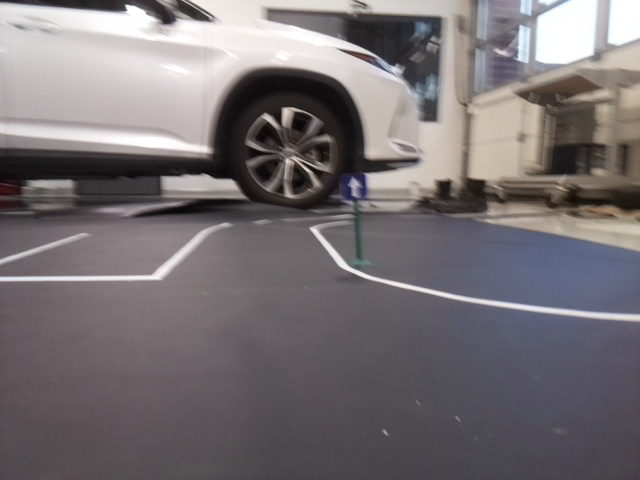OneWay: (341, 174, 369, 201)
